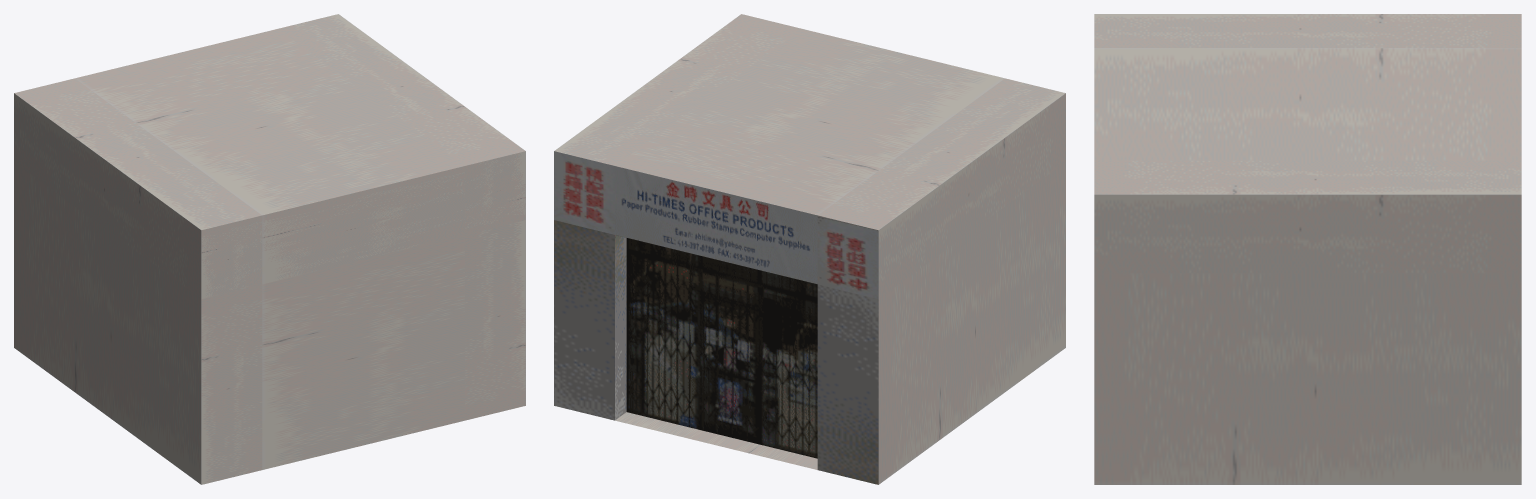
File: chineserubberstamps.fbx
3 views of the same model, side by side, from view 1: azimuth 30°, elevation 25°; view 2: azimuth 150°, elevation 25°; view 3: azimuth 270°, elevation 25° (orthographic). The views are drawn at different scales.
Parts seen in each view (by area): view 1: mesh; view 2: mesh; view 3: mesh.
Boxes of the visible parts, box(x1,y1,x2,y2) form: mesh: box(14, 14, 525, 484); mesh: box(554, 14, 1065, 484); mesh: box(1094, 14, 1521, 484).
Bounding box in the file's own units: 50 × 37.5 × 50.
Materials: 1 (1 with a texture image).
